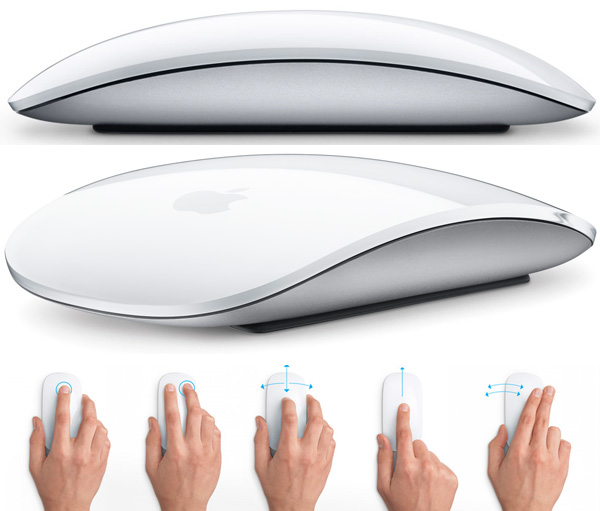Apple: (167, 185, 270, 228)
